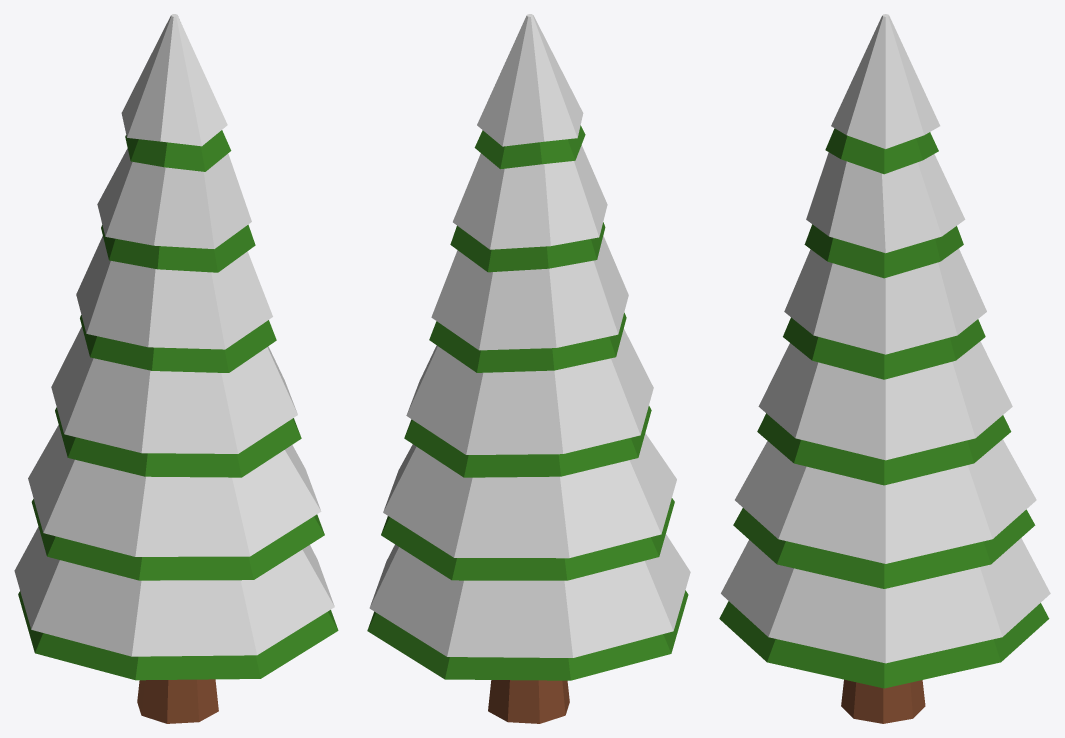
Rendered from Tree1_Snow.fbx.
3 renders of one model, left to right at view 1: azimuth 30°, elevation 25°; view 2: azimuth 150°, elevation 25°; view 3: azimuth 270°, elevation 25°, orthographic.
Visible parts, largest first — view 1: Snow, Leaves, Berk; view 2: Snow, Leaves, Berk; view 3: Snow, Leaves, Berk.
Part boxes in pixels (bbox=[...]): Snow: bbox=[14, 14, 334, 656]; Leaves: bbox=[18, 130, 338, 680]; Berk: bbox=[137, 679, 218, 723]; Snow: bbox=[369, 14, 690, 657]; Leaves: bbox=[367, 125, 688, 680]; Berk: bbox=[488, 680, 569, 723]; Snow: bbox=[721, 14, 1050, 663]; Leaves: bbox=[719, 128, 1049, 688]; Berk: bbox=[841, 679, 925, 723].
Bounding box in the file's own units: 316 × 721 × 314.
